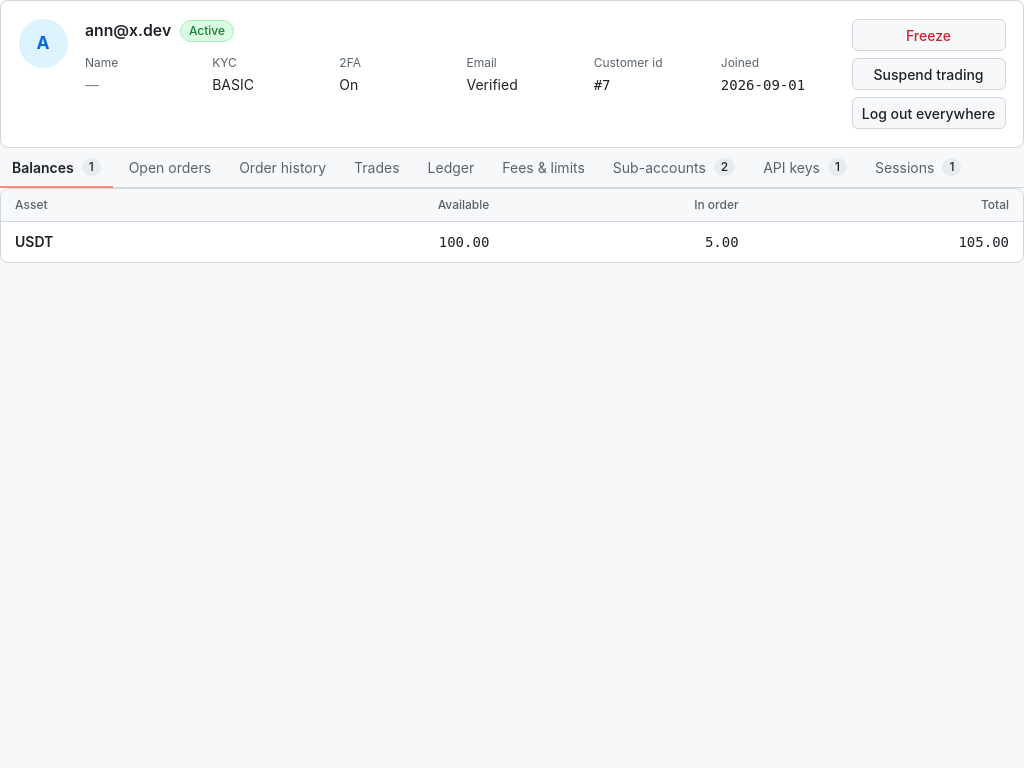
Test case: Customer detail › freezes with a reason, and says what the server did
The width and height of the screenshot is (1024, 768).
Expected: the heading "ann@x.dev" is shown, [85, 19, 171, 44]
Click the button "Freeze".
click(928, 35)  # box [852, 19, 1006, 51]
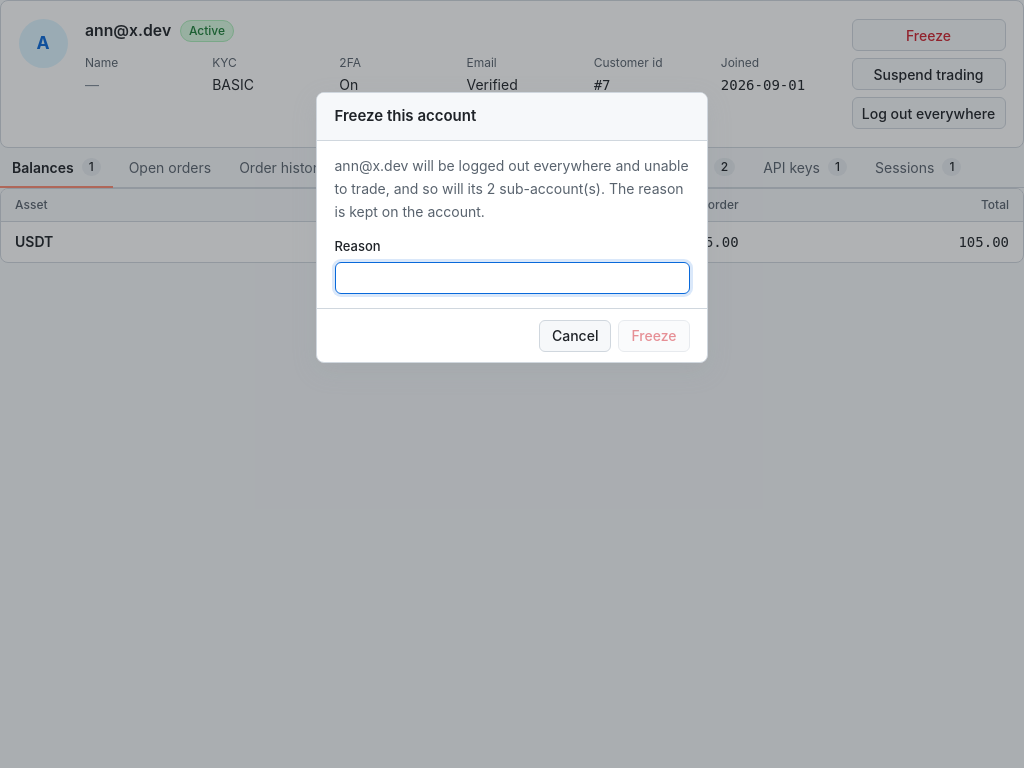
Expected: the button "Freeze" is disabled, [618, 320, 690, 352]
Type "fraud review" into the field.
click(512, 278); type("fraud review")  # box [334, 262, 690, 294]
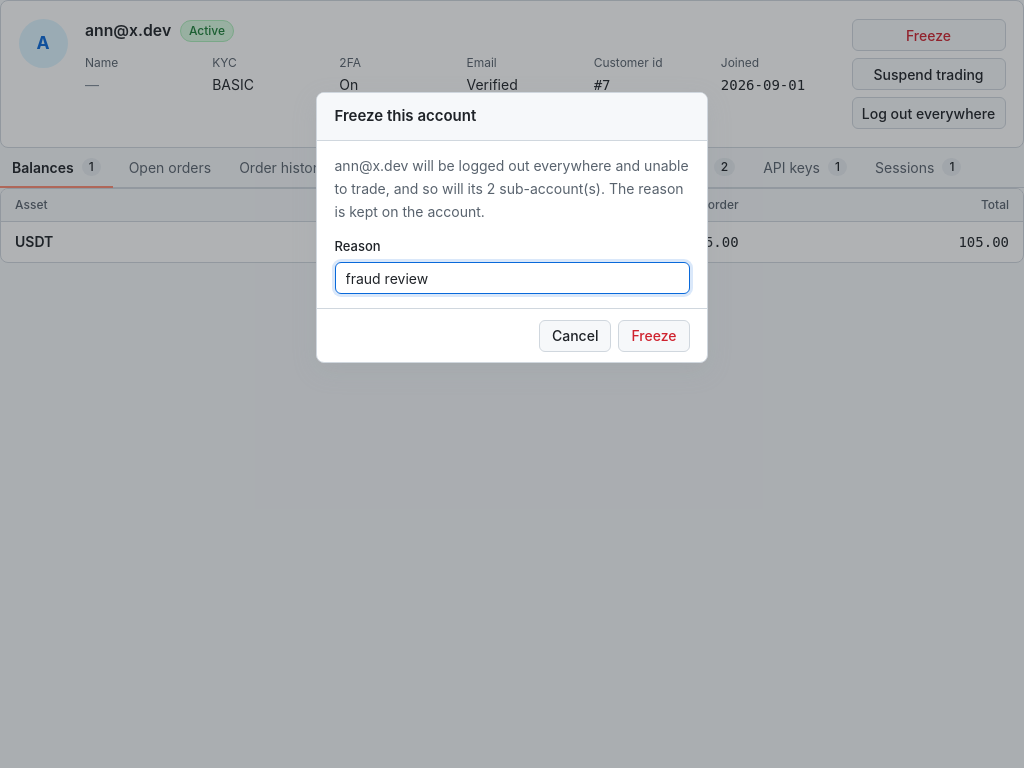
Click the button "Freeze".
click(654, 336)  # box [618, 320, 690, 352]
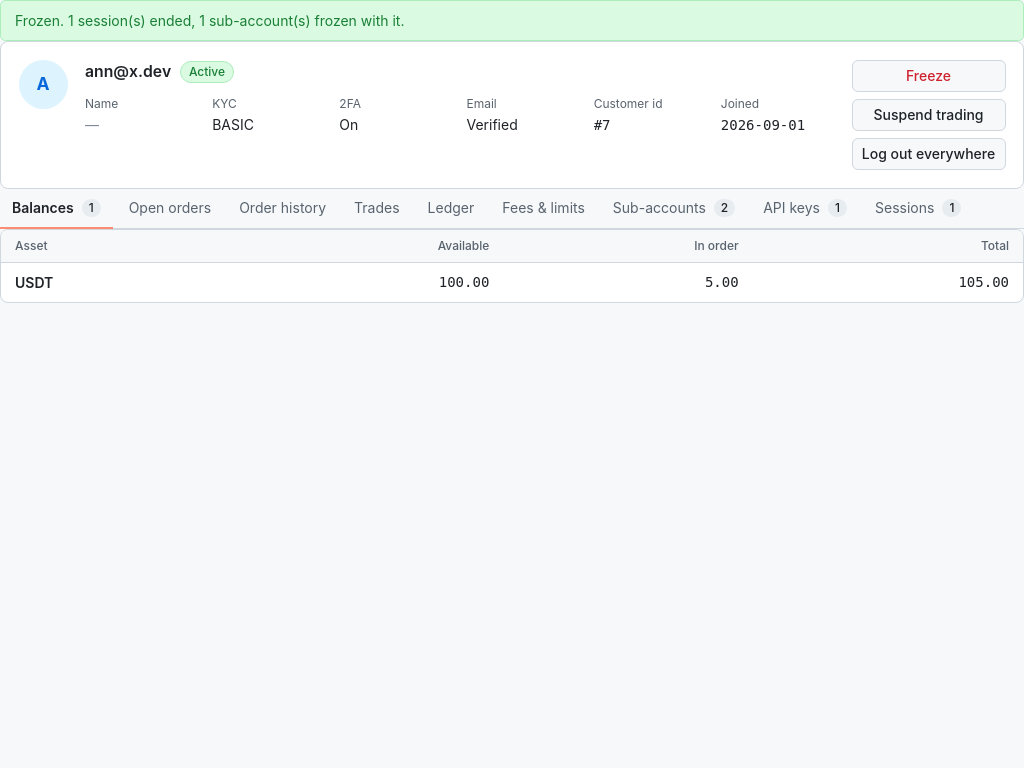
Expected: the message shows "1 session(s) ended, 1 sub-account(s) frozen with it", [15, 12, 404, 29]
